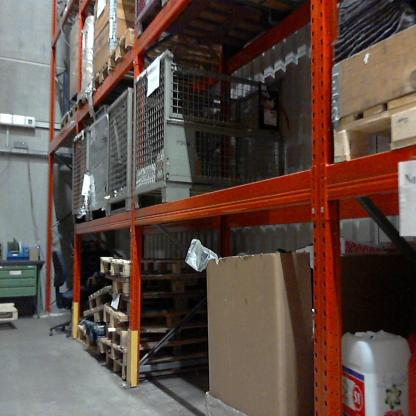pallet: (108, 28, 232, 81), (329, 93, 414, 168), (96, 249, 220, 284), (101, 299, 219, 335), (100, 357, 214, 389), (98, 328, 216, 357), (105, 269, 216, 298), (110, 294, 228, 316), (98, 340, 210, 363), (92, 61, 147, 104), (77, 318, 105, 349), (86, 283, 113, 310), (75, 300, 102, 325), (79, 328, 100, 360), (56, 1, 82, 24), (1, 301, 21, 330), (77, 83, 95, 114), (68, 98, 79, 122), (57, 111, 68, 132)
stillage: (128, 57, 284, 217), (107, 80, 137, 217), (65, 118, 90, 227), (89, 113, 111, 224)
